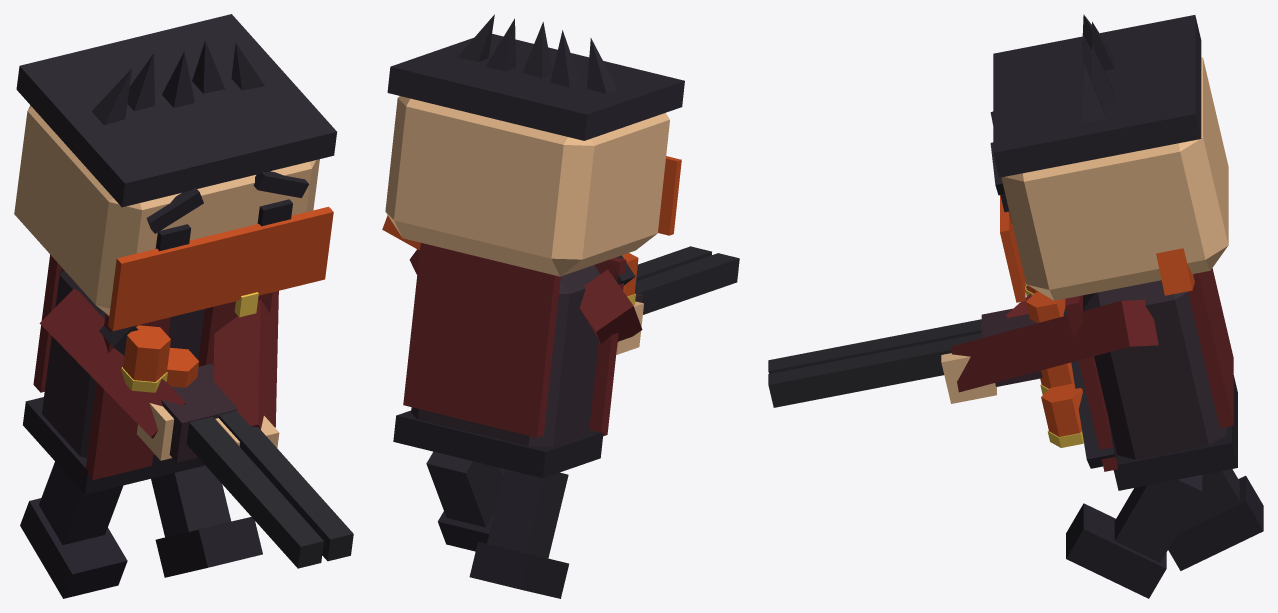
File: shotgunner_r3.glb
3 views of the same model, side by side, from view 1: azimuth 30°, elevation 25°; view 2: azimuth 150°, elevation 25°; view 3: azimuth 270°, elevation 25° (orthographic). The views are drawn at different scales.
Parts seen in each view (by area): view 1: shotgunner_r3_mesh; view 2: shotgunner_r3_mesh; view 3: shotgunner_r3_mesh.
Boxes of the visible parts, box(x1,y1,x2,y2) form: shotgunner_r3_mesh: box(14, 14, 353, 598); shotgunner_r3_mesh: box(382, 14, 739, 598); shotgunner_r3_mesh: box(768, 14, 1263, 598).
Bounding box in the file's own units: 0.6641 × 1.5 × 1.24.
Materials: 1 (1 with a texture image).
